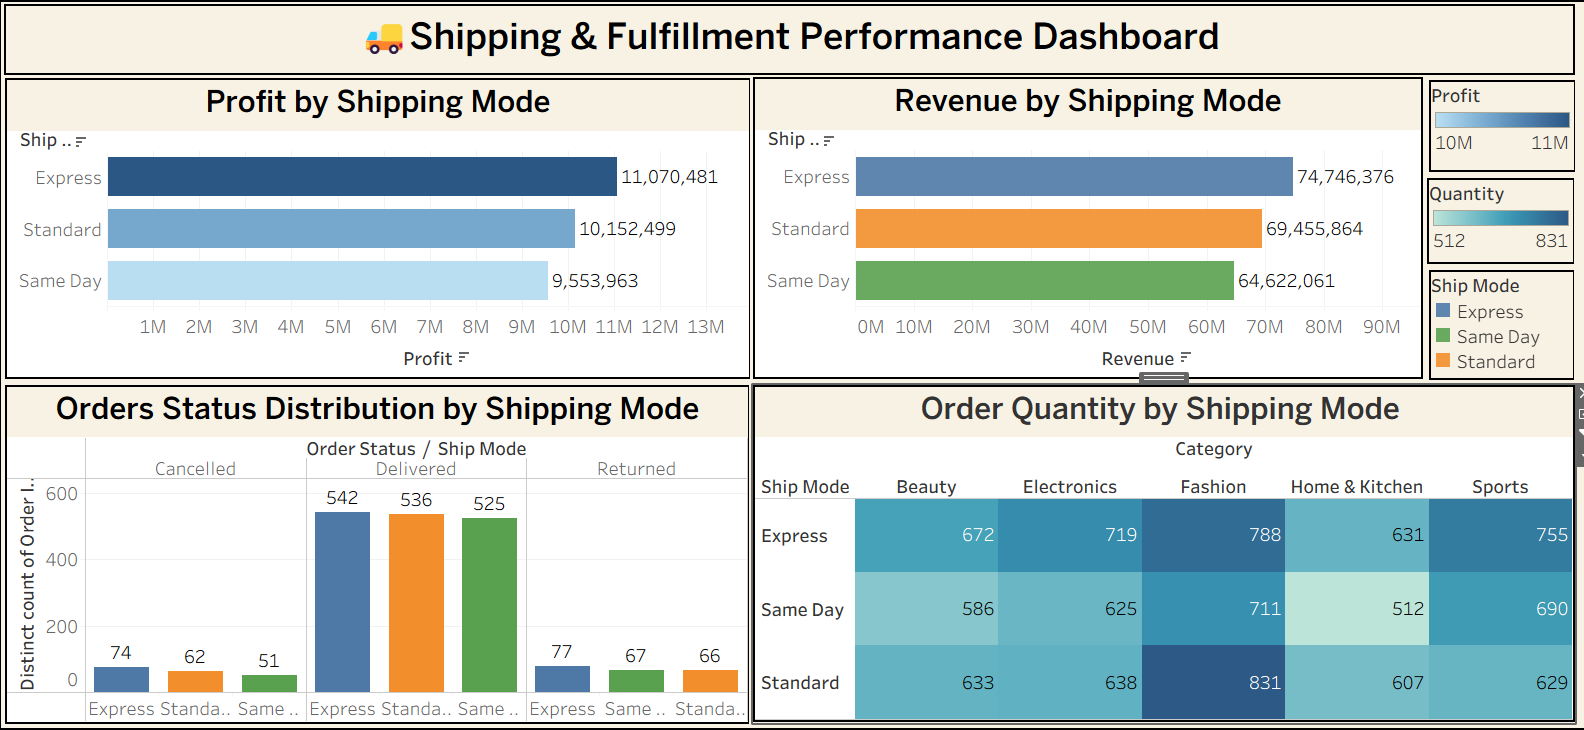

The page's visual inventory and layout, read from the dashboard file:
{"tool":"tableau","page":{"name":"Dashboard 3","canvas":[1000,1000],"units":"permille","ordinal":2},"visuals":[{"type":"text","box":[8,16.4,979.6,94.5]},{"type":"worksheet","title":"Shipping Mode Performance","mark":"Automatic","rows":["Ship_Mode"],"cols":["Revenue"],"box":[475.3,113.7,417.9,405.5]},{"type":"worksheet","title":"Profit by Shipping Mode","mark":"Automatic","rows":["Ship_Mode"],"cols":["Profit"],"box":[8.6,115.1,464.8,404.1]},{"type":"legend","title":"Profit by Shipping Mode","param":"[federated.1a9c4js00jwry112yuas218mgewn].[sum:Profit:qk]","box":[896.3,117.8,91.4,123.3]},{"type":"legend","title":"Quantity by Ship mode","param":"[federated.1a9c4js00jwry112yuas218mgewn].[sum:Quantity:qk]","box":[895.1,249.3,92,115.1]},{"type":"legend","title":"Order Status by Distribution","param":"[federated.1a9c4js00jwry112yuas218mgewn].[none:Order_Status:nk]","box":[897.5,269.9,90.7,146.6]},{"type":"legend","title":"Shipping Mode Performance","param":"[federated.1a9c4js00jwry112yuas218mgewn].[none:Ship_Mode:nk]","box":[896.3,372.6,90.7,148]},{"type":"worksheet","title":"Order Status by Distribution","mark":"Automatic","rows":["Order ID (copy)_0573974938316801"],"cols":["Order_Status","Ship_Mode"],"box":[8.6,527.4,464.2,454.8]},{"type":"worksheet","title":"Quantity by Ship mode","mark":"Square","rows":["Ship_Mode"],"cols":["Category"],"box":[475.3,527.4,512.4,452.1]}]}

Visuals, with their boxes on the dashboard's canvas, which has no fixed pixel size, in thousandths of its width and height (x1, y1, x2, y2). These are canvas units, not pixel positions in the 1584x730 screenshot, which may show the page scaled, cropped or inside an application window:
text: locate(8, 16, 988, 111)
"Shipping Mode Performance" worksheet: locate(475, 114, 893, 519)
"Profit by Shipping Mode" worksheet: locate(9, 115, 473, 519)
"Profit by Shipping Mode" legend: locate(896, 118, 988, 241)
"Quantity by Ship mode" legend: locate(895, 249, 987, 364)
"Order Status by Distribution" legend: locate(898, 270, 988, 416)
"Shipping Mode Performance" legend: locate(896, 373, 987, 521)
"Order Status by Distribution" worksheet: locate(9, 527, 473, 982)
"Quantity by Ship mode" worksheet (Square marks): locate(475, 527, 988, 980)
